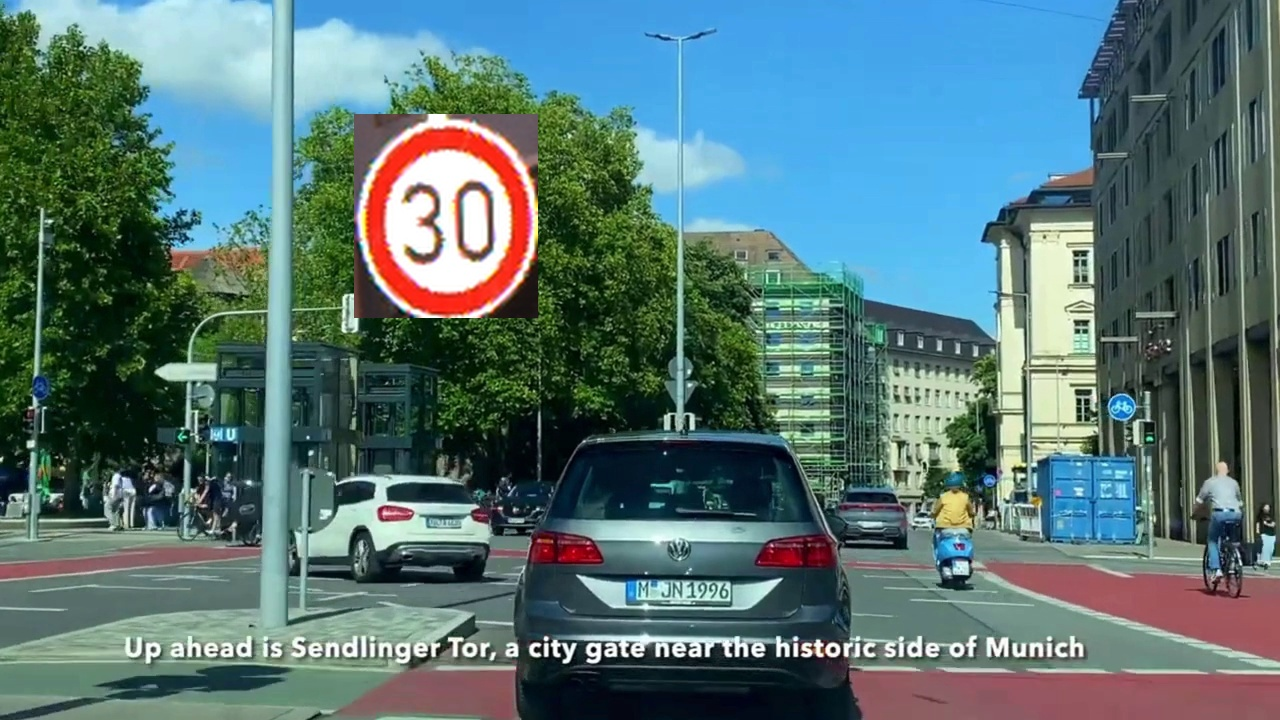Speed 30: (354, 114, 538, 318)
